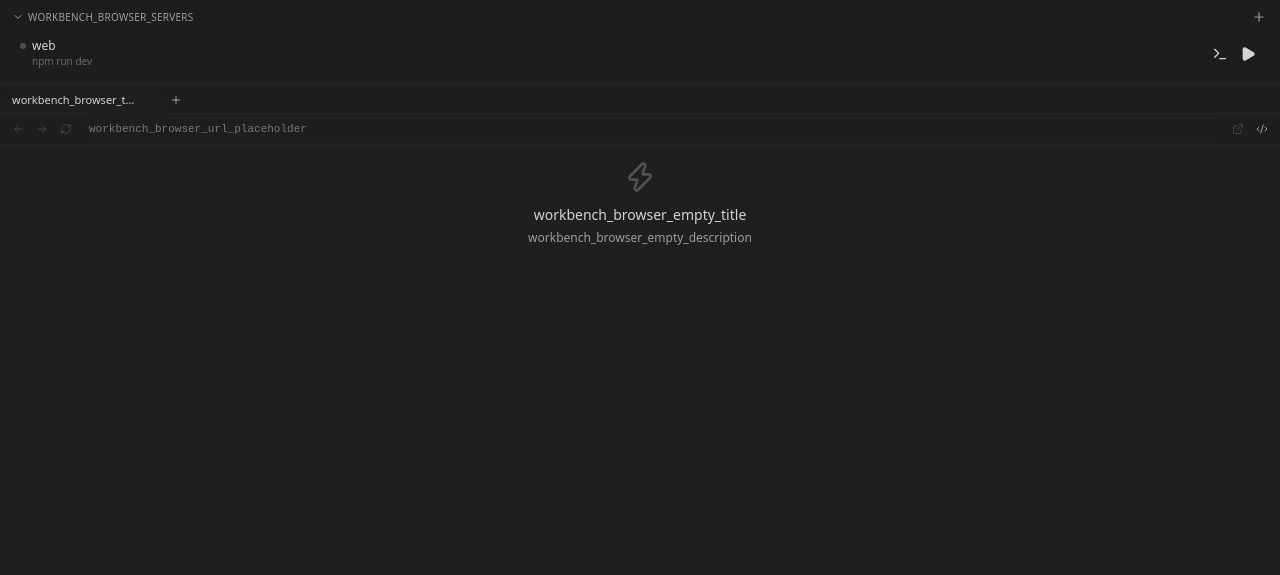
Test: BrowserTab — servidores de dev (paridade com o antigo Preview) › botão de console abre o painel e mostra as linhas de log do servidor
Click the button titled "workbench_browser_console".
click(1220, 54)  # box [1208,42,1232,66]
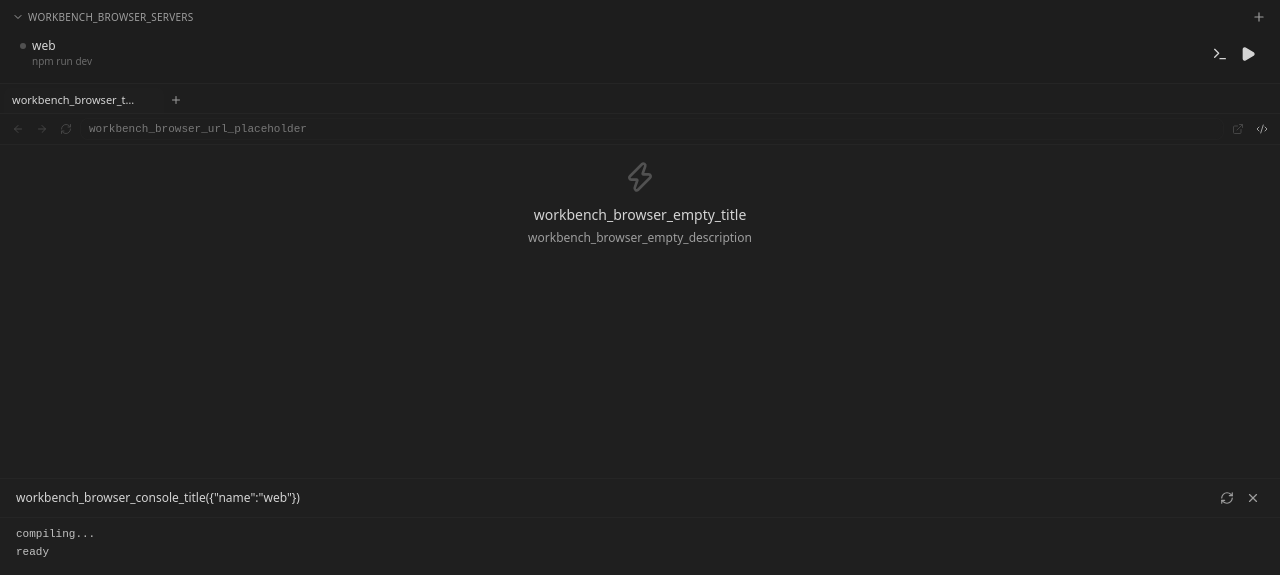
Expected: the text "compiling..." is shown, [16,528,95,540]
Expected: the text "ready" is shown, [16,546,49,558]
